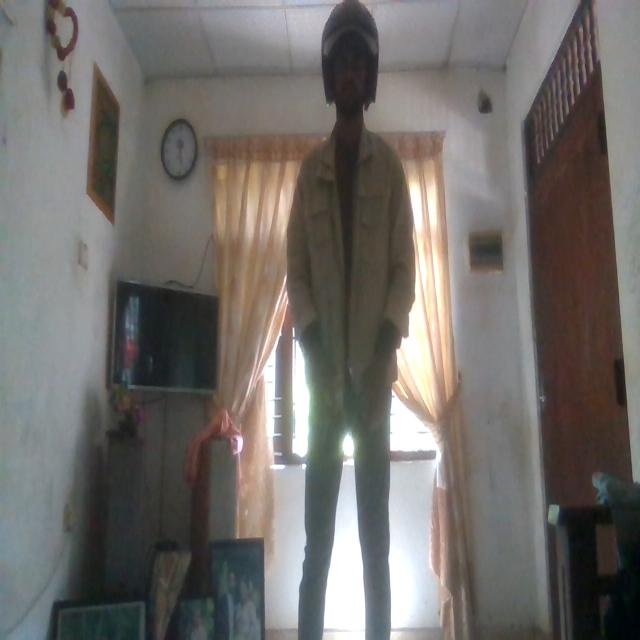Helmet_Wearer: (317, 0, 382, 132)
Jacket_Wearer: (284, 131, 416, 447)
Person: (286, 6, 414, 640)
